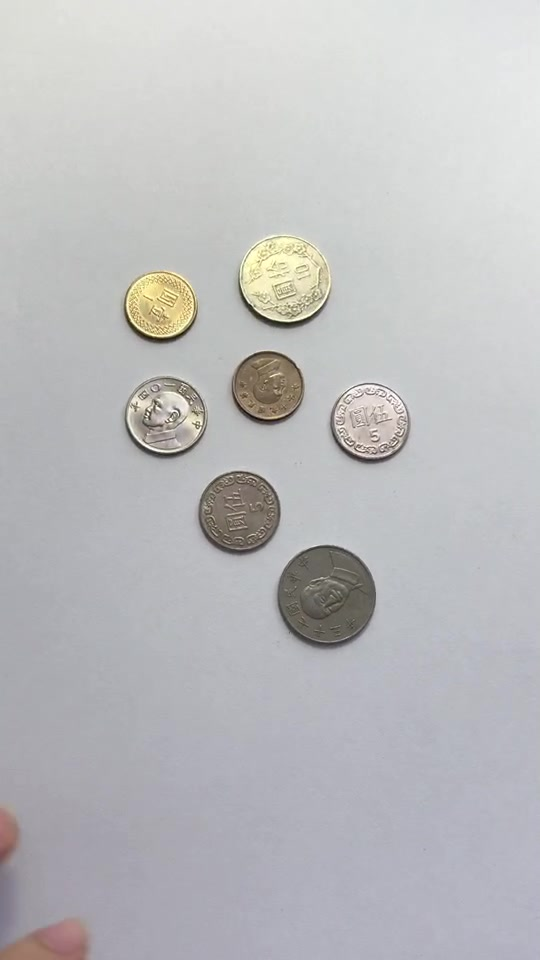1 dallar: (115, 264, 203, 347), (227, 345, 315, 428)
10 dallar: (228, 224, 339, 339), (273, 539, 384, 654)
5 dallar: (115, 369, 212, 462), (324, 376, 421, 469), (190, 465, 287, 558)
